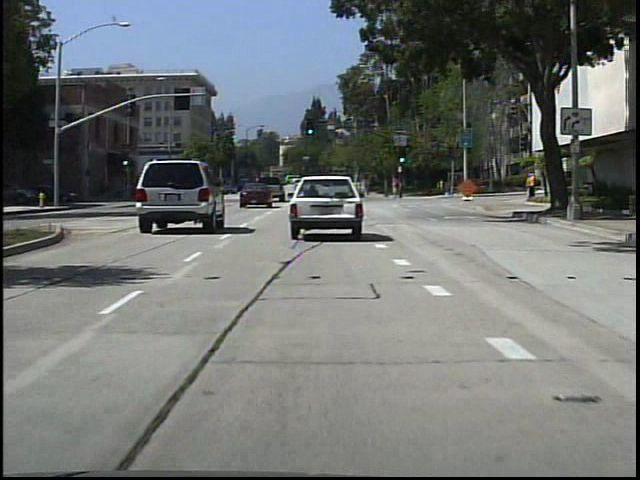person: (393, 173, 407, 202)
